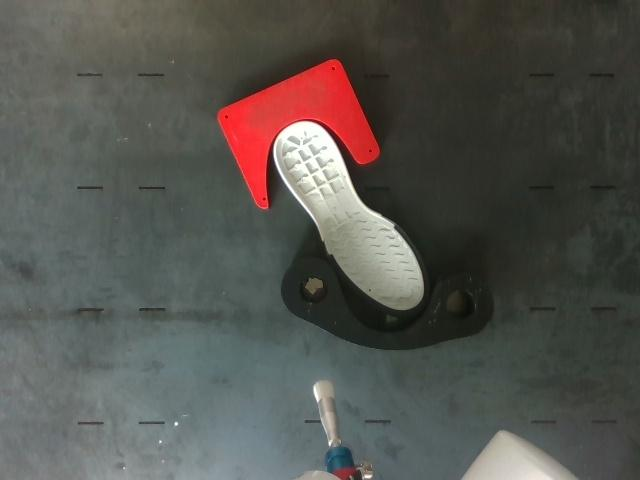shoes: (275, 122, 429, 315)
